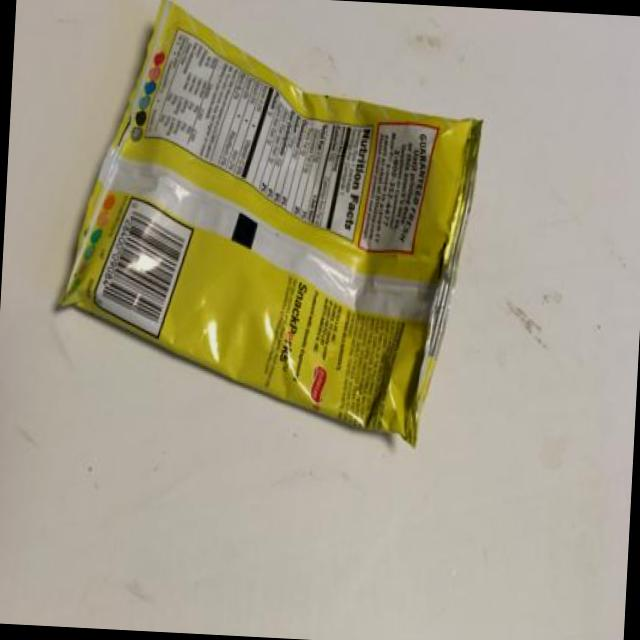bao_bi_thuc_pham: (56, 0, 483, 444)
